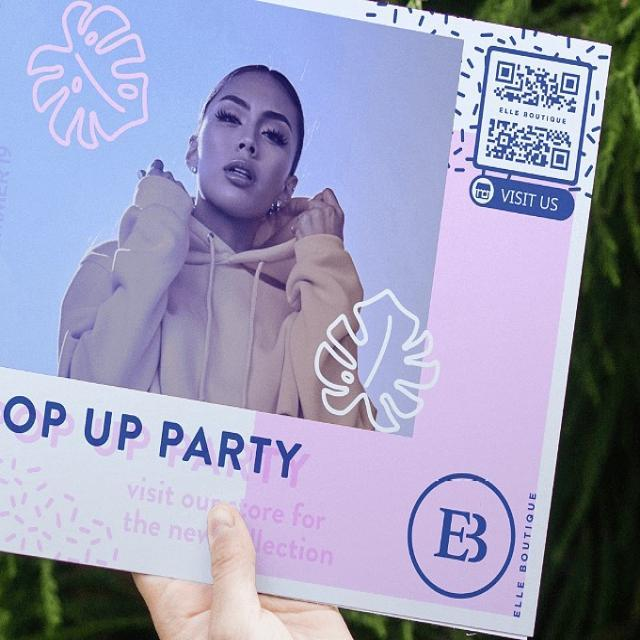qr_code: (486, 60, 580, 172)
